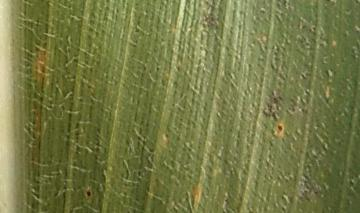tarspot: (299, 72, 307, 81), (276, 124, 283, 132), (85, 190, 92, 198), (38, 95, 45, 102), (310, 25, 317, 32), (323, 1, 332, 2)
